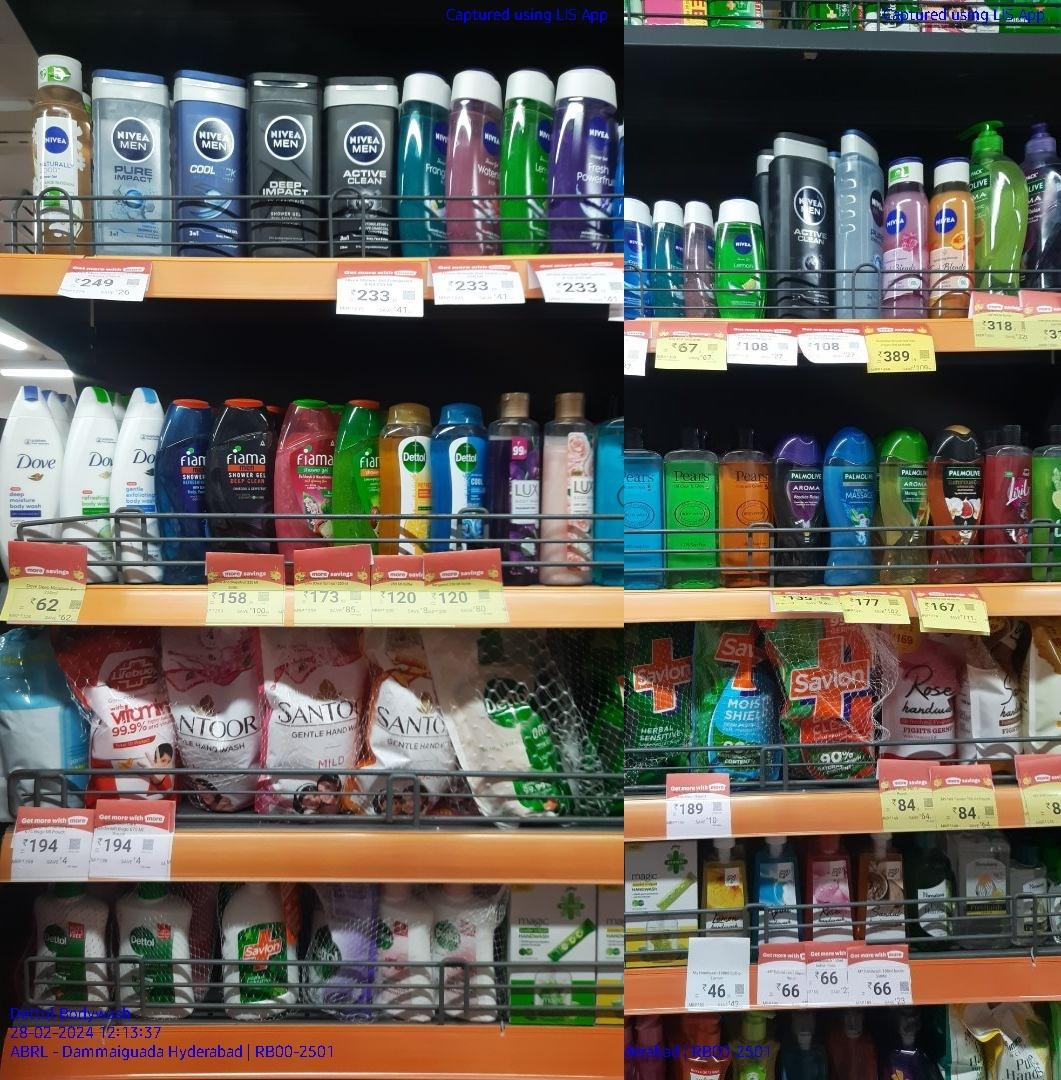Dettol_Bodywash_Cool: (434, 399, 485, 557)
Dettol_Bodywash_Refresh: (382, 400, 429, 558)
Dove_Deep_Moisture_Body_Wash_250ML: (3, 381, 60, 551)
Dove_Gentle_Exfoliating_Body_Wash_250ML: (116, 383, 160, 590)
Dove_Refreshing_Body_Wash_250ML: (63, 382, 110, 584)
Fiama_Shower_Gel_Lemongrass_and_Jojoba_250ML: (337, 398, 378, 555)
Fiama_Shower_Gel_Patchouli_and_Macadamia_250ML: (281, 399, 333, 580)
Lux_Black_Orchid_Scent_and_Juniper_Oil_Body_Wash_245ML: (488, 388, 542, 587)
Nivea_Shower_Gel_Frangipani_and_Oil_250ML: (400, 64, 450, 258)
Nivea_Shower_Gel_Fresh_Powerfruit_250ML: (554, 62, 618, 263)
Nivea_Shower_Gel_Lemon_and_Oil_250ML: (506, 65, 553, 254)
Nivea_Shower_Gel_Waterlily_and_Oil_250ML: (454, 66, 502, 258)
Palmolive_Aroma_Moments_Feel_The_Massage_Shower_Gel_250ML: (827, 430, 876, 589)
Palmolive_Aroma_Morning_Tonic_Shower_Gel_250ML: (881, 427, 927, 588)
Palmolive_Aroma_Relax_250ML: (772, 432, 824, 589)
Palmolive_Luminous_Oils_With_White_Orchid_Shower_Gel_250ML: (930, 425, 986, 585)
Pears_Pure_Glycerin_and_Lemon_Flower_Extracts_Body_Wash_250ML: (665, 422, 718, 592)
Pears_Pure_Glycerin_and_Mint_Extracts_Body_Wash_250ML: (623, 418, 663, 593)
